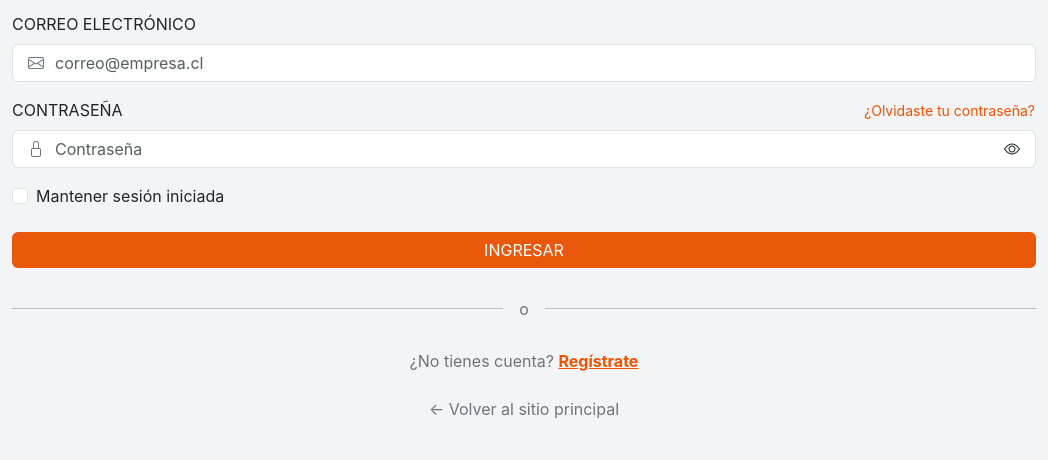
it: muestra un error cuando el correo no tiene un formato válido
Type "correo-invalido" into the field with placeholder "correo@empresa.cl".
click(524, 63); type("correo-invalido")  # box [12,44,1036,82]
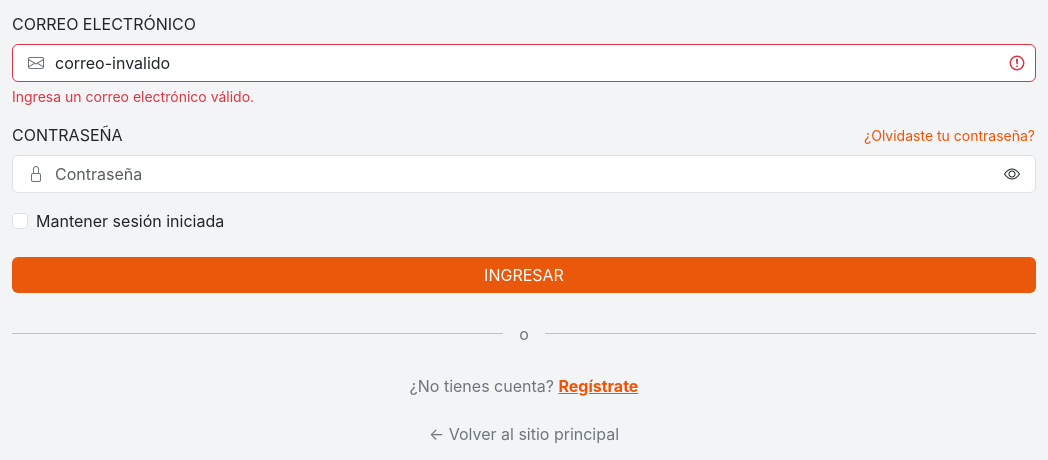
Check: the text "Ingresa un correo electrónico válido." is shown, box [12,88,254,105]
